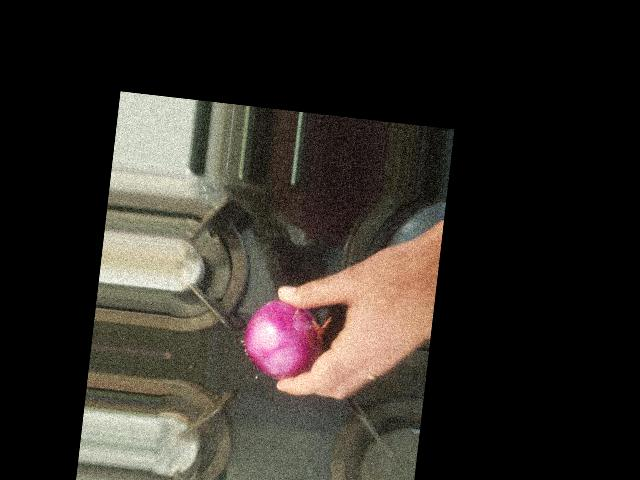onion: (240, 292, 327, 387)
